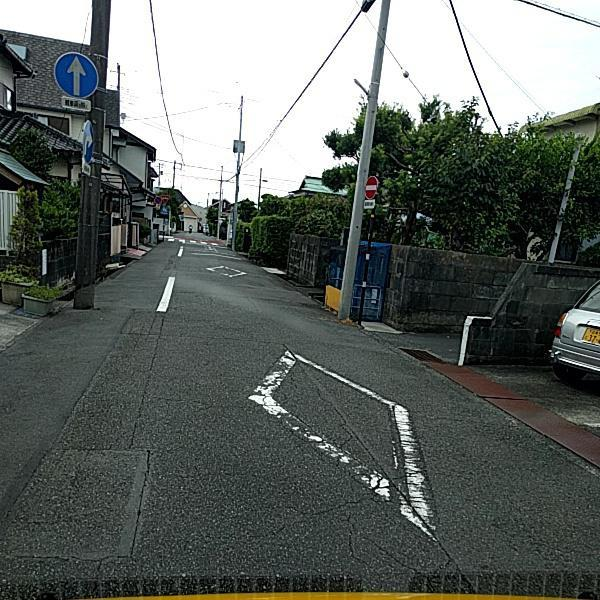D20: (269, 464, 422, 583)
D44: (251, 340, 450, 539)
